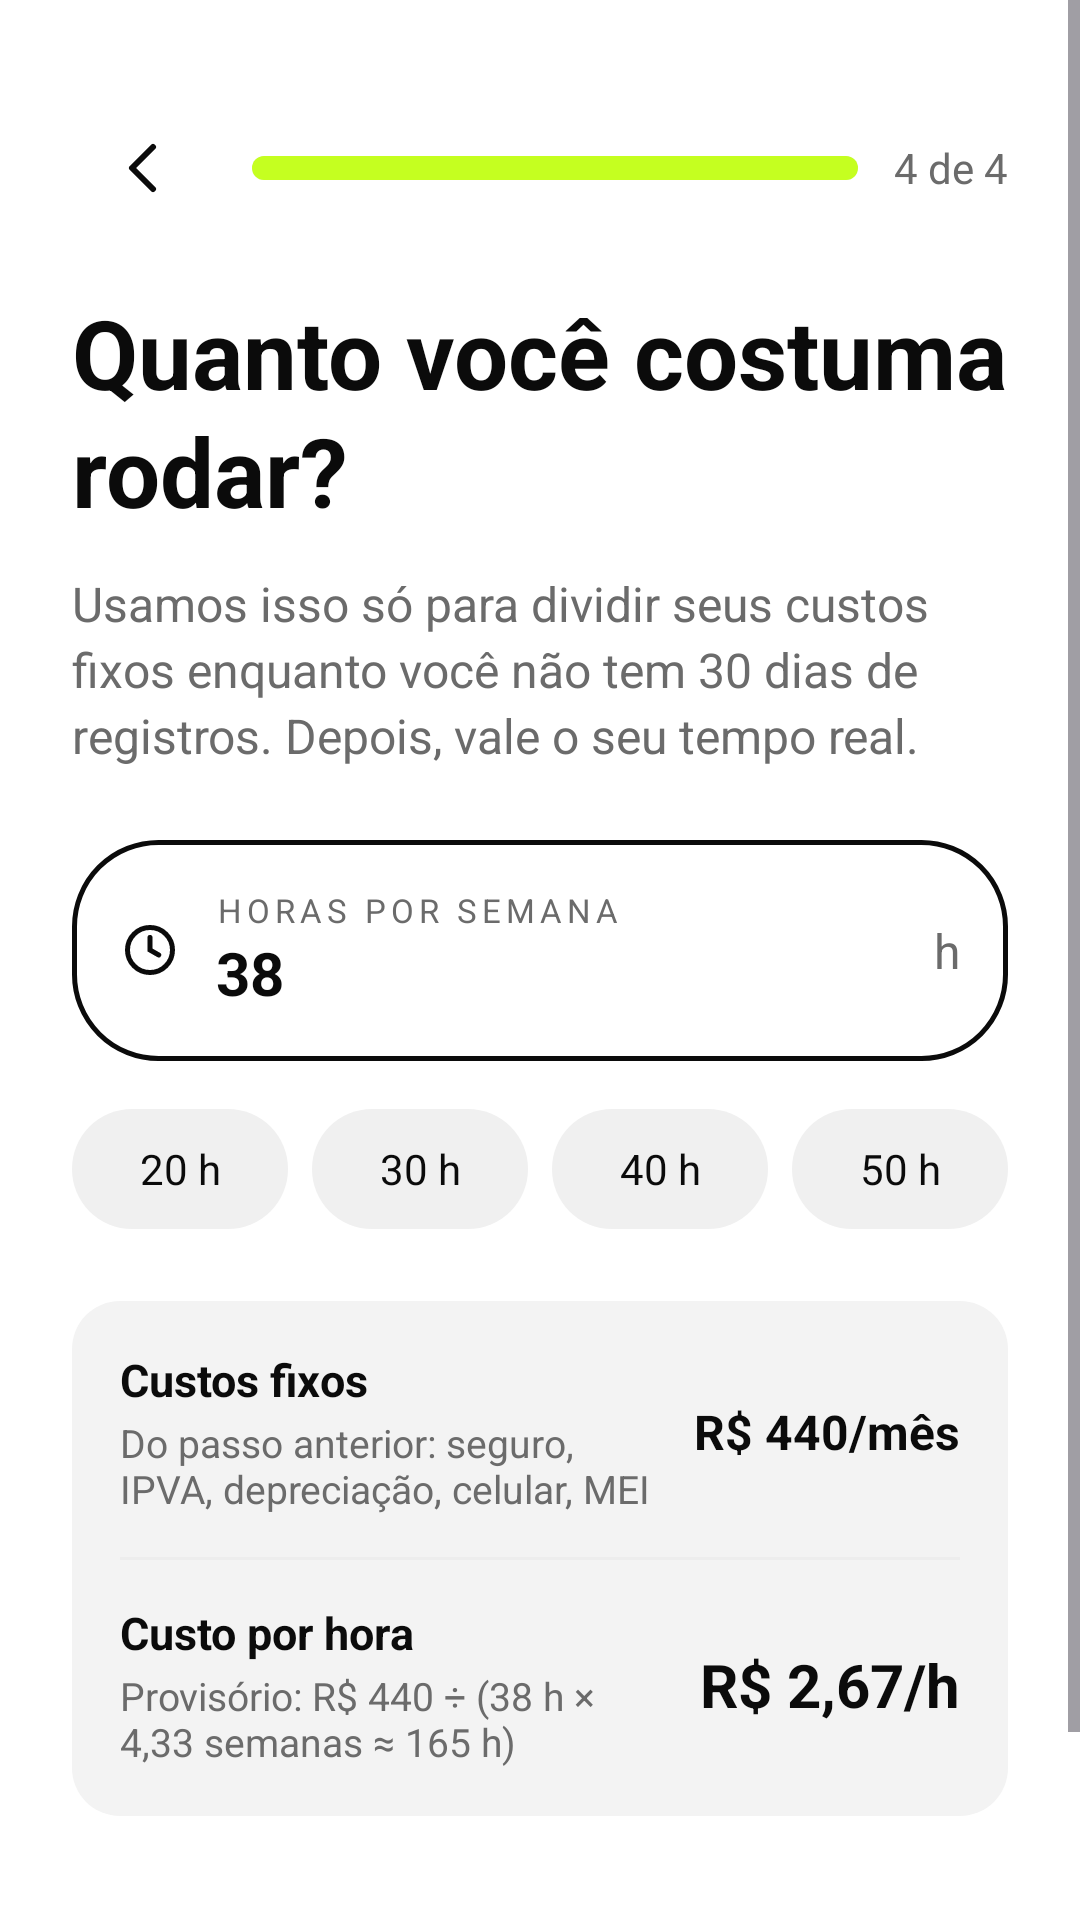

Point at icon controls on the screen. Image size 1080 x 1920, points as (x=x, y=y).
Voltar: (x=142, y=168)
Ícone de horas: (x=150, y=950)
